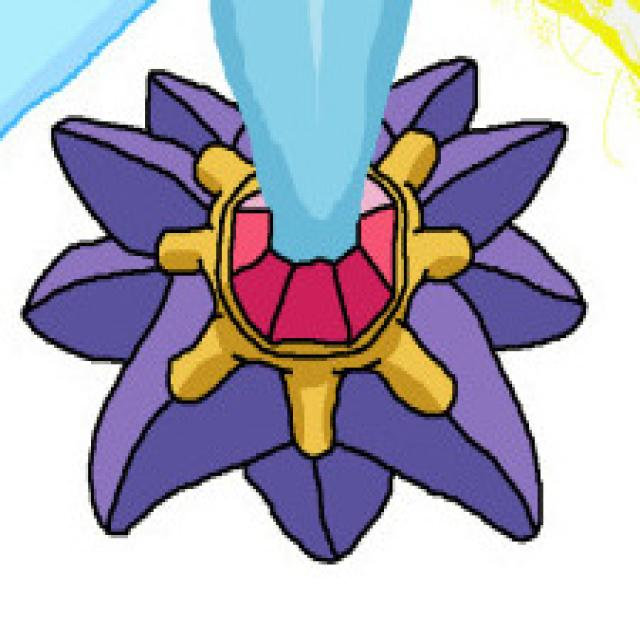Starmie: (50, 70, 546, 539)
